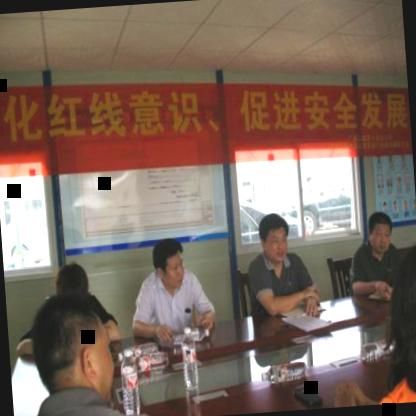head: (25, 281, 119, 412), (256, 209, 293, 267), (152, 236, 190, 292), (54, 260, 94, 304), (364, 208, 398, 256)
